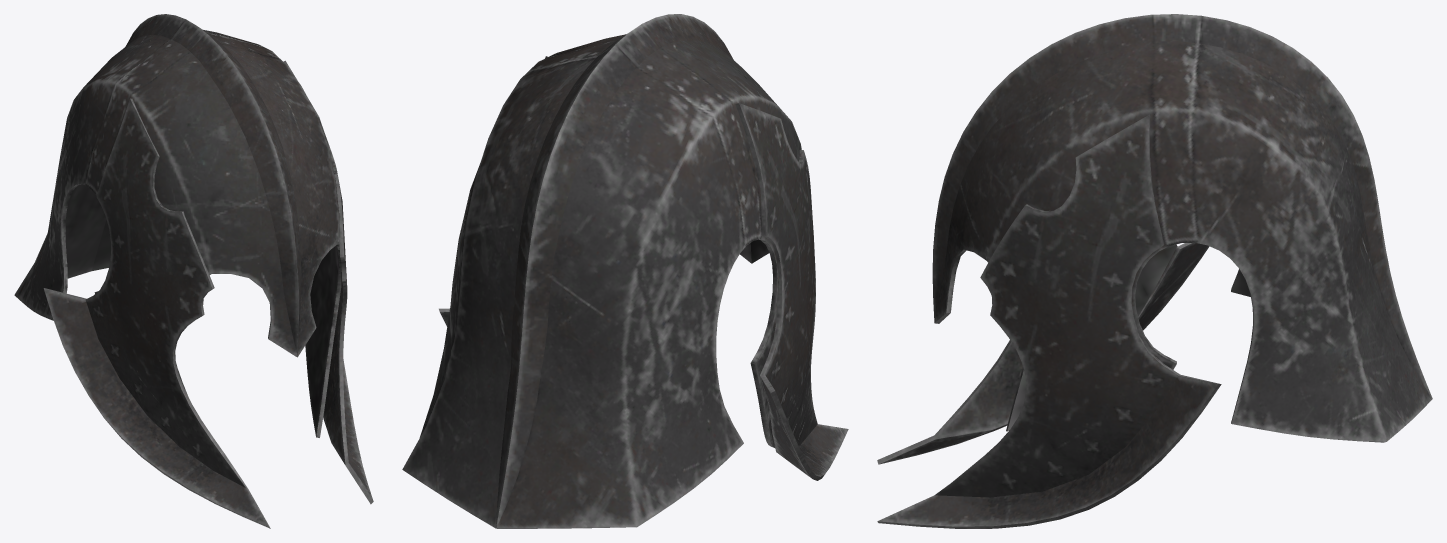
File: sk_uruk_mordor_helmet_heavy_d1.fbx
The picture shows the model from 3 angles, left to right: view 1: azimuth 30°, elevation 25°; view 2: azimuth 150°, elevation 25°; view 3: azimuth 270°, elevation 25°; orthographic projection. The views are drawn at different scales.
Visible parts, largest first — view 1: sk_uruk_mordor_helmet_heavy_d1; view 2: sk_uruk_mordor_helmet_heavy_d1; view 3: sk_uruk_mordor_helmet_heavy_d1.
Boxes of the visible parts, x1=… form: sk_uruk_mordor_helmet_heavy_d1: x1=14, y1=14, x2=373, y2=528; sk_uruk_mordor_helmet_heavy_d1: x1=402, y1=14, x2=848, y2=528; sk_uruk_mordor_helmet_heavy_d1: x1=877, y1=14, x2=1432, y2=528.
Bounding box in the file's own units: 0.2307 × 0.3415 × 0.3255.
Materials: 1 (1 with a texture image).
